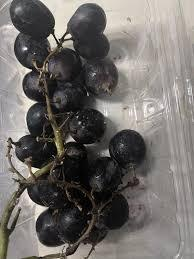Grape Rotten: (6, 0, 146, 259)
